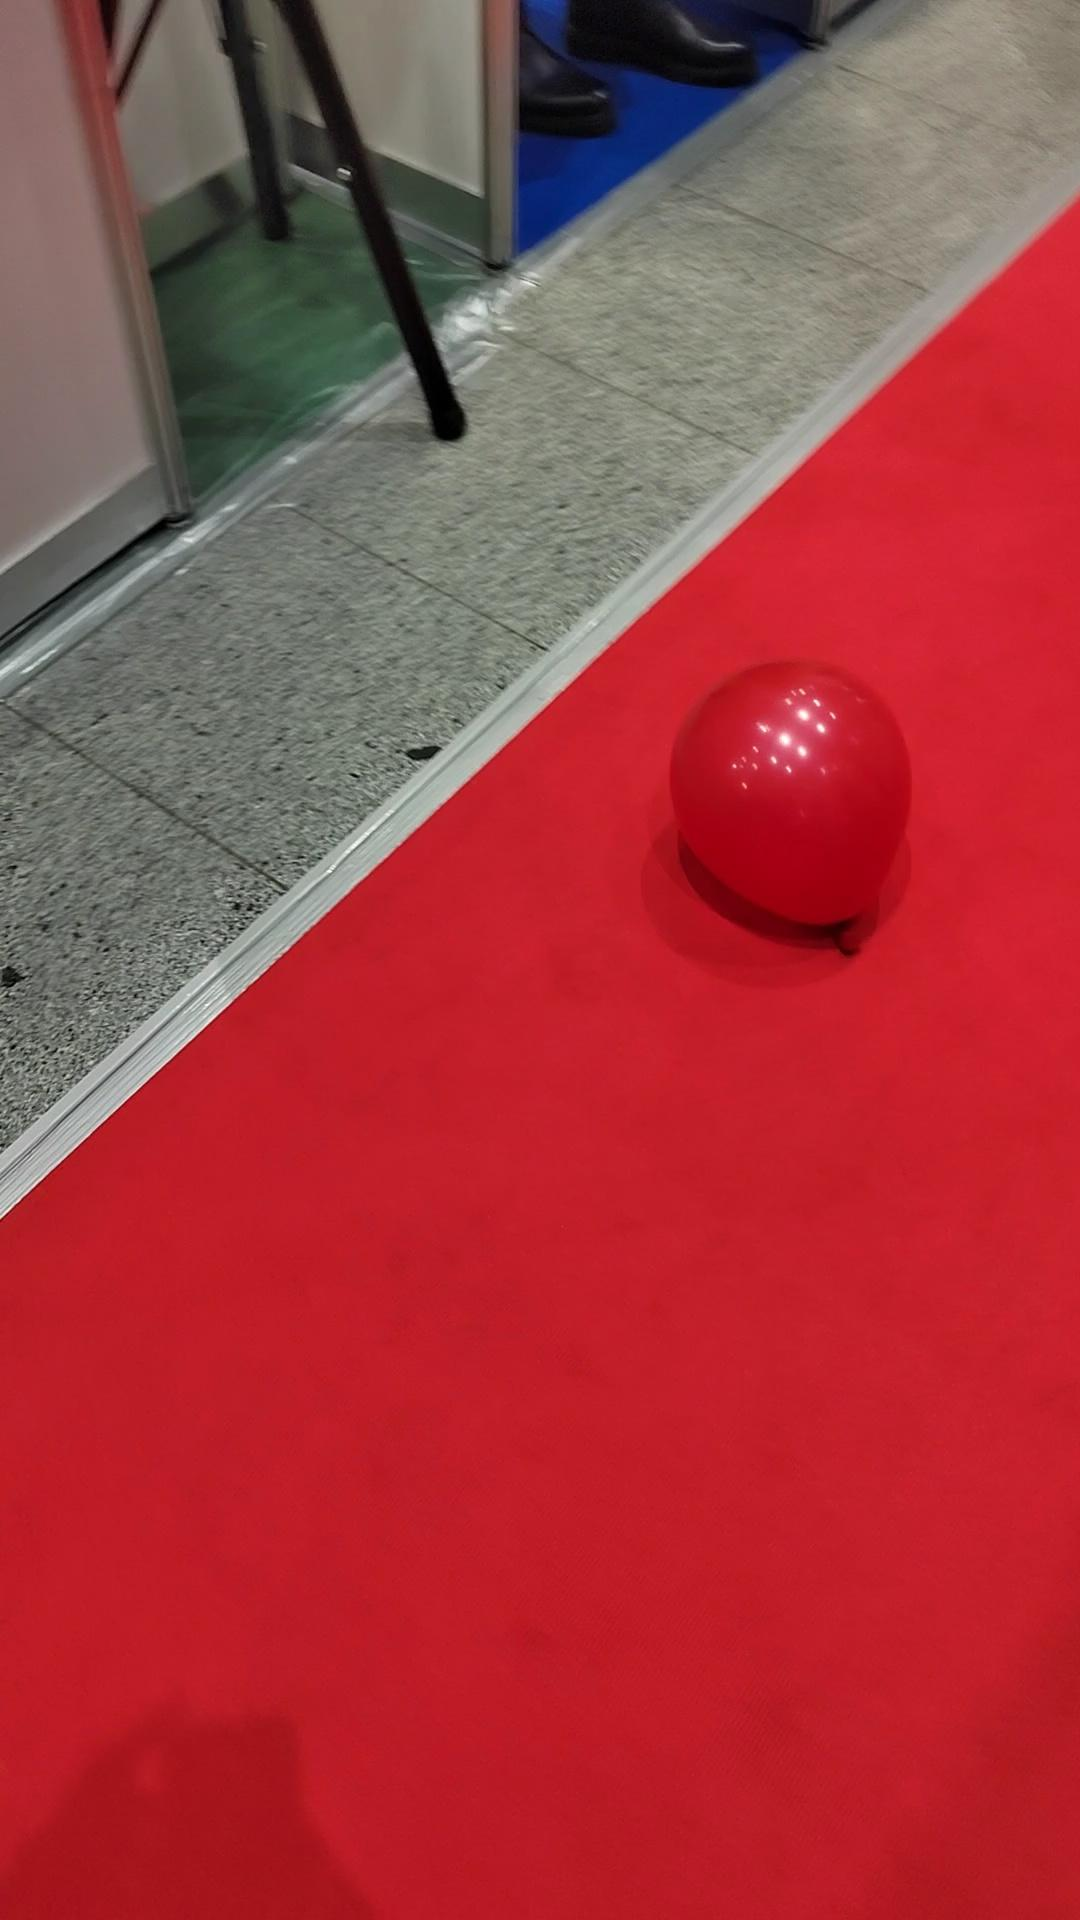red: (668, 658, 913, 932)
